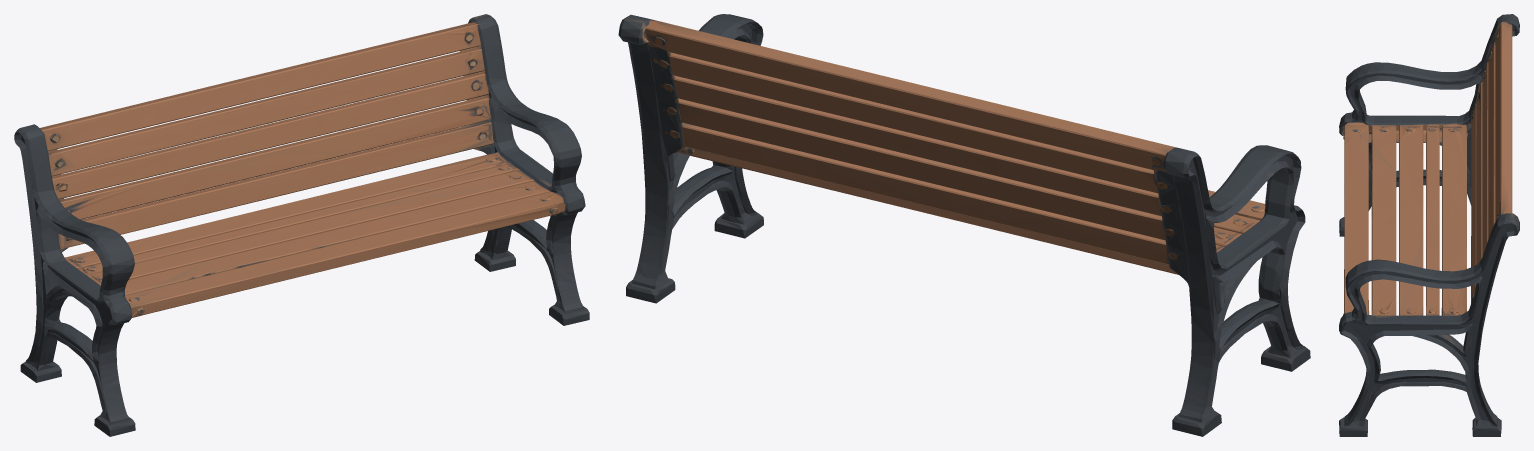
Rendered from park_bench.glb.
The picture shows the model from 3 angles, left to right: view 1: azimuth 30°, elevation 25°; view 2: azimuth 150°, elevation 25°; view 3: azimuth 270°, elevation 25°; orthographic projection. The views are drawn at different scales.
Visible parts, largest first — view 1: park_bench; view 2: park_bench; view 3: park_bench.
Part boxes in pixels (bbox=[...]): park_bench: bbox=[14, 14, 589, 436]; park_bench: bbox=[618, 14, 1310, 436]; park_bench: bbox=[1339, 14, 1519, 436].
Bounding box in the file's own units: 1.8 × 0.85 × 0.65.
1 material, 1 textured.
